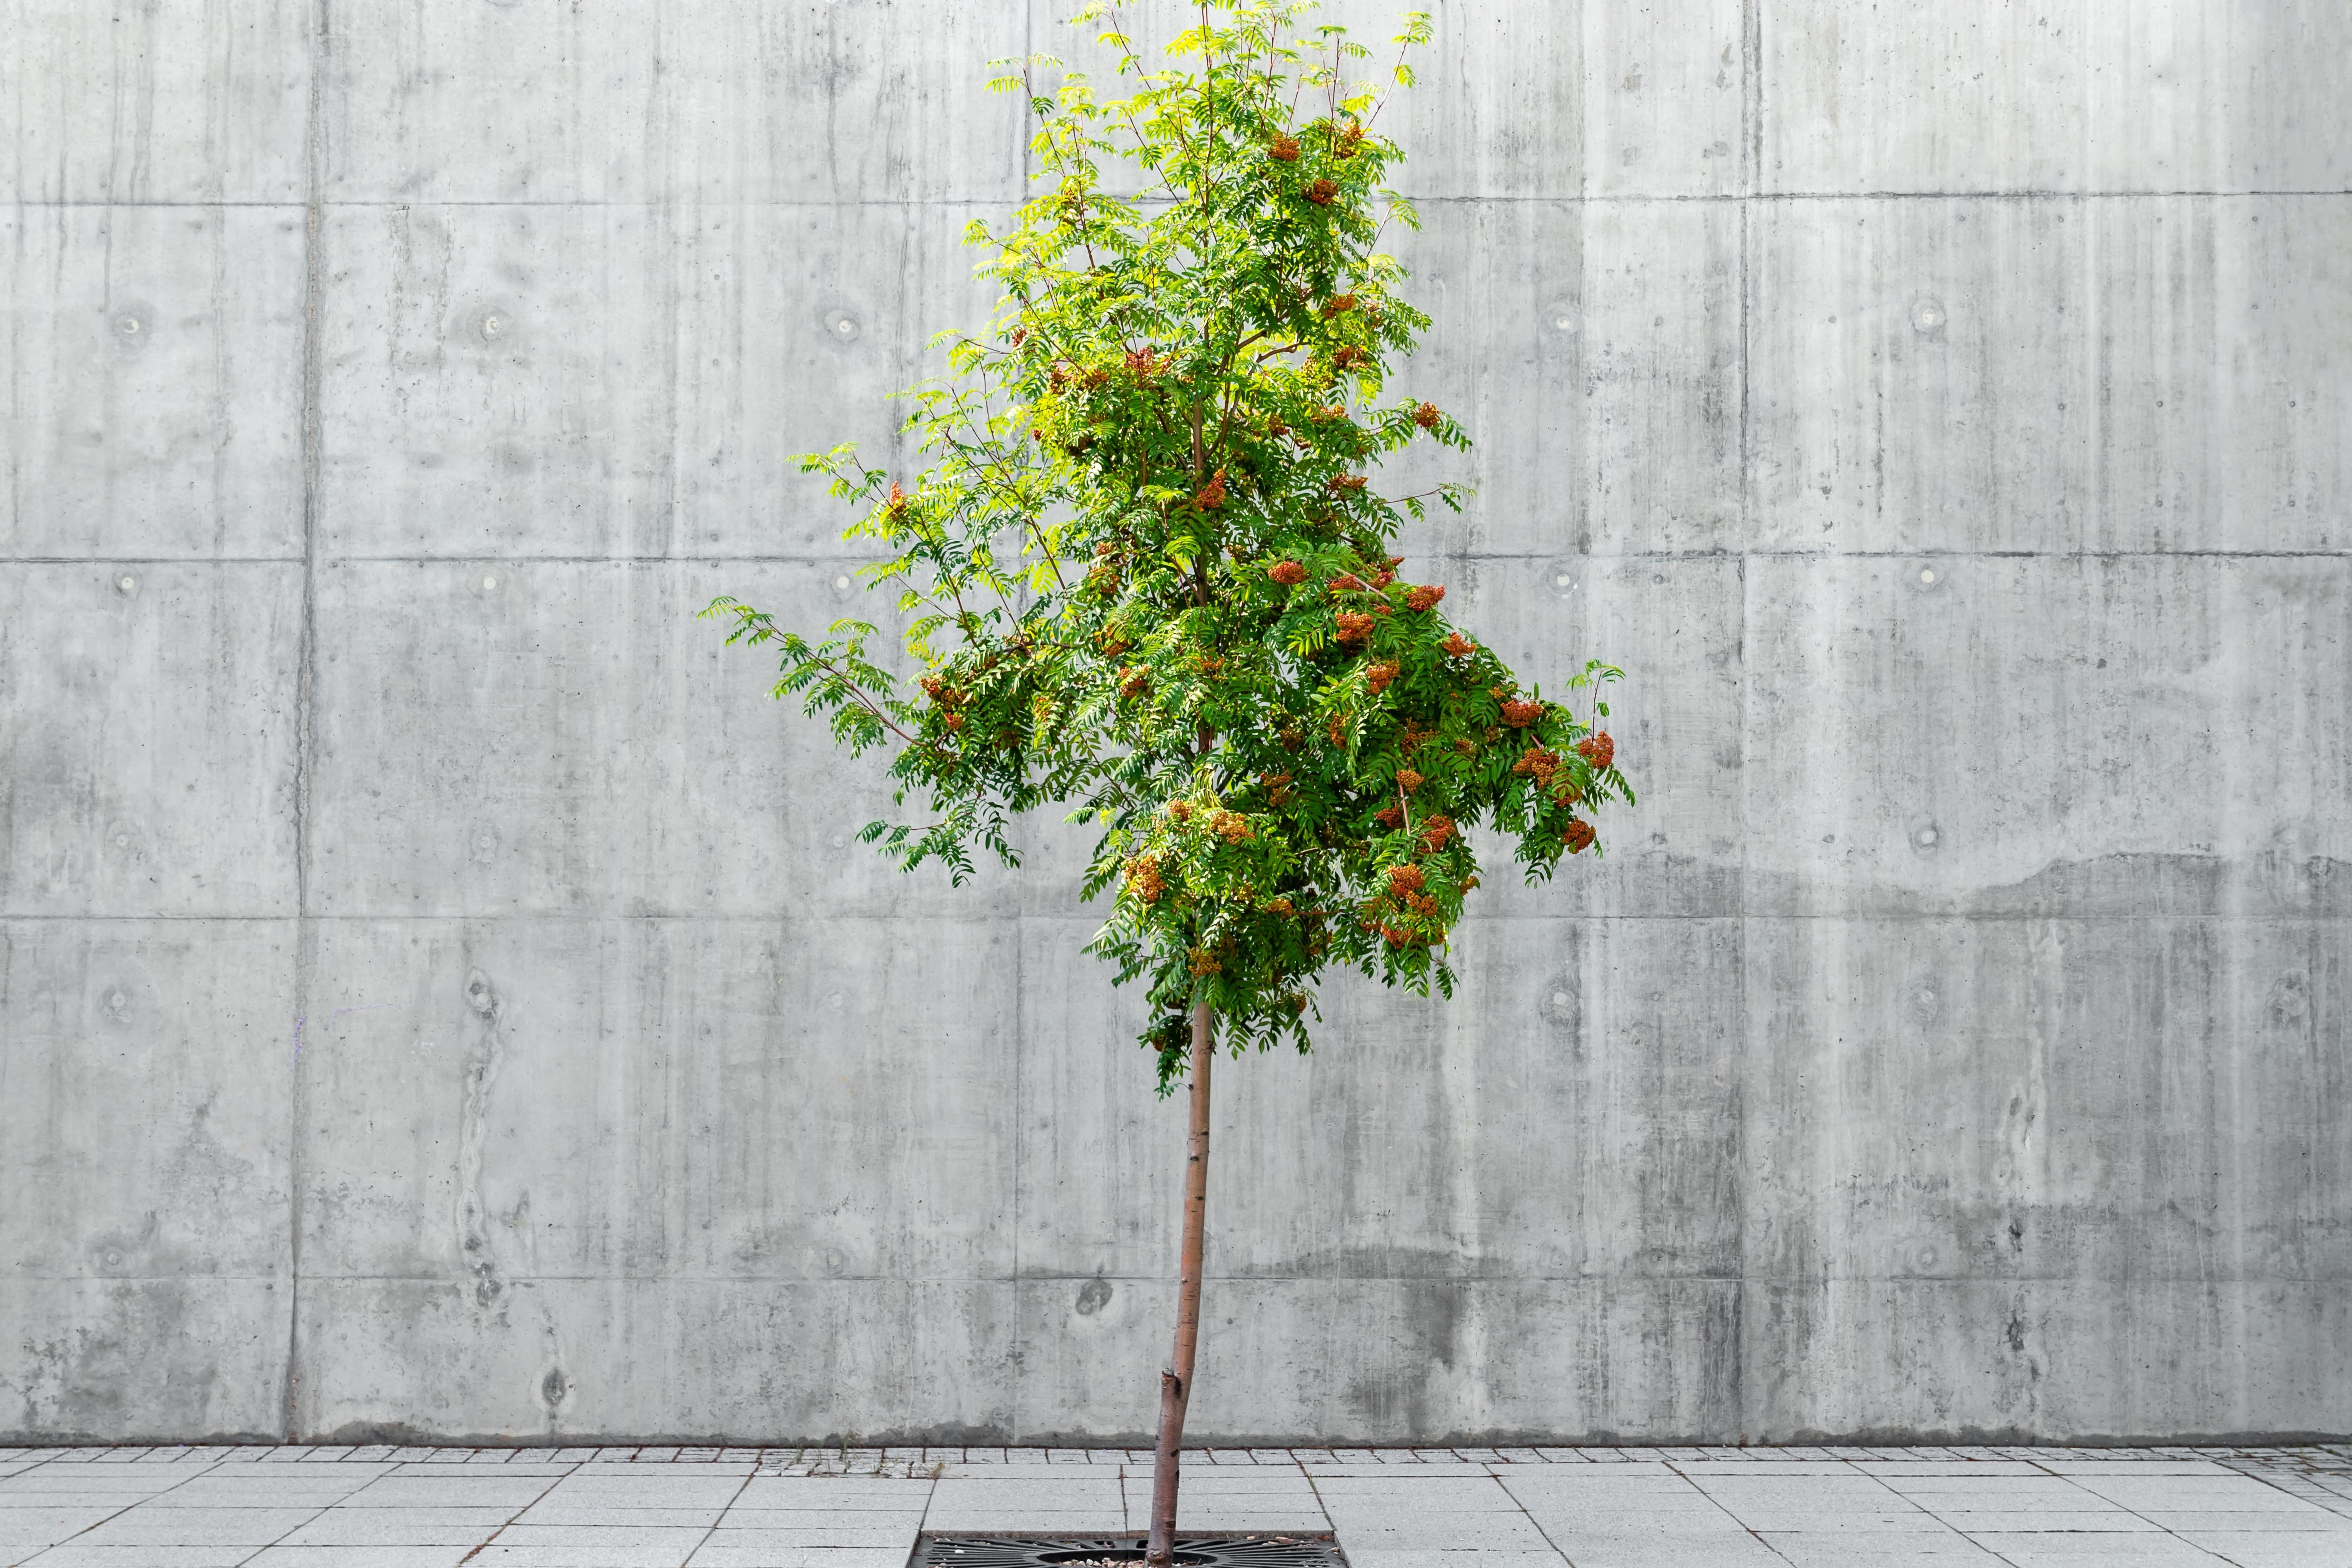tree: (693, 0, 1634, 1563)
